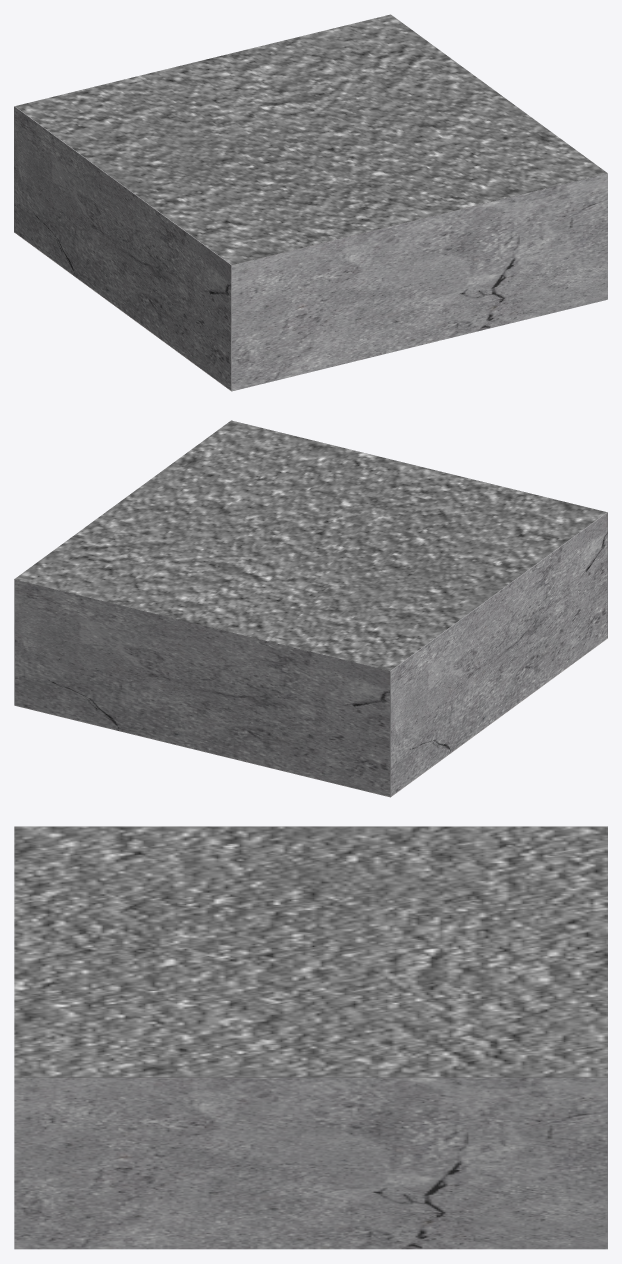
The model's file is TestRoom.fbx.
3 views of the same model, one above another, from view 1: azimuth 30°, elevation 25°; view 2: azimuth 150°, elevation 25°; view 3: azimuth 270°, elevation 25° (orthographic). The views are drawn at different scales.
Parts seen in each view (by area): view 1: TestRoom; view 2: TestRoom; view 3: TestRoom.
Part boxes in pixels (x1=…): TestRoom: x1=14, y1=14, x2=607, y2=391; TestRoom: x1=14, y1=420, x2=607, y2=797; TestRoom: x1=14, y1=826, x2=607, y2=1249.
Size of the model in its own units: 318 by 102 by 317.
